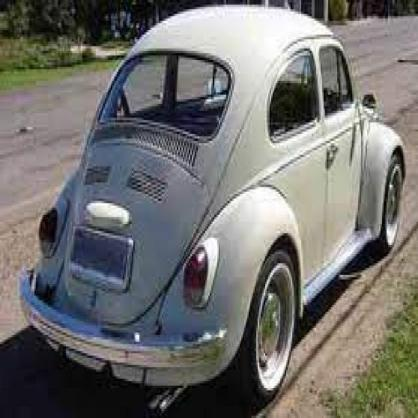car: (17, 3, 407, 412)
